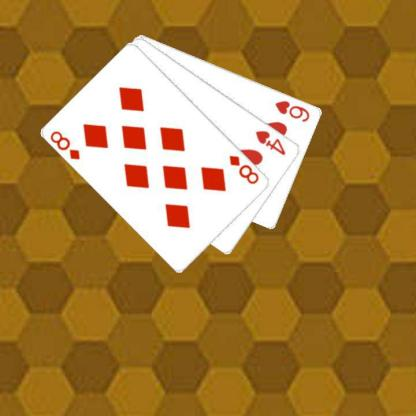4H: (253, 128, 288, 156)
6H: (273, 98, 311, 123)
8D: (227, 152, 261, 186), (48, 128, 82, 161)
